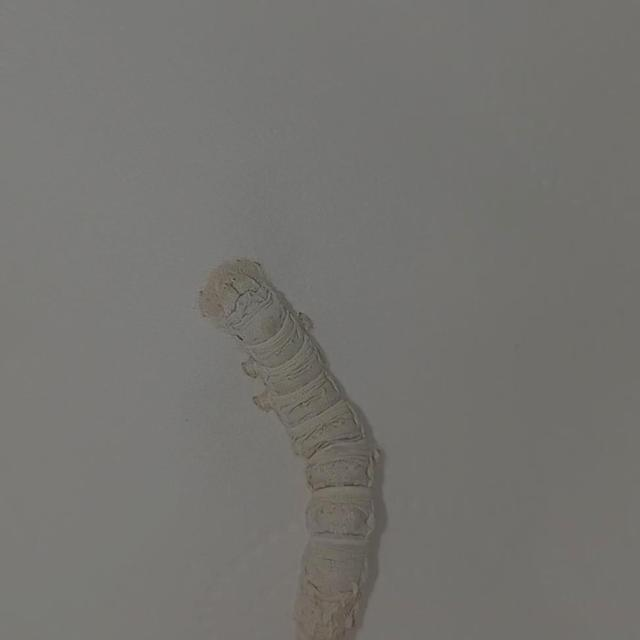Healthy: (181, 227, 451, 640)
